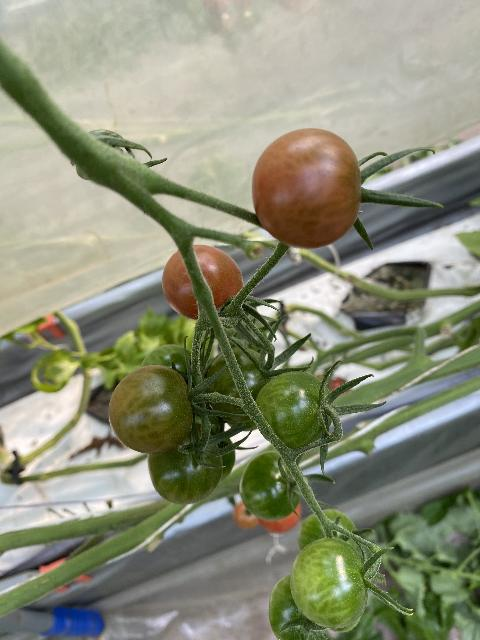l_fully_ripened: (162, 244, 245, 321)
l_green: (108, 365, 194, 453), (288, 537, 368, 628), (255, 370, 334, 449), (148, 422, 222, 505), (208, 349, 274, 430), (239, 451, 302, 521), (268, 574, 330, 640), (141, 344, 202, 402), (297, 507, 357, 551), (212, 430, 236, 481)
l_half_ripened: (250, 127, 362, 250)
